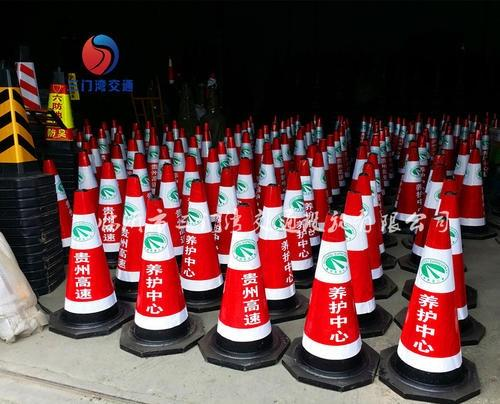cone_barrel: (387, 214, 472, 391), (291, 210, 369, 376), (209, 201, 280, 361), (127, 195, 191, 348), (321, 174, 381, 336), (56, 187, 122, 325), (252, 147, 291, 305), (176, 179, 224, 307), (115, 171, 147, 288), (280, 165, 311, 275), (41, 158, 72, 251), (93, 156, 122, 255), (456, 146, 487, 234), (391, 147, 423, 231), (154, 159, 182, 251), (255, 146, 276, 215), (310, 149, 329, 220), (202, 144, 220, 210), (225, 135, 238, 173), (293, 127, 305, 164), (95, 122, 107, 157), (200, 123, 211, 156), (215, 136, 226, 166), (141, 121, 151, 147), (162, 123, 171, 145)
